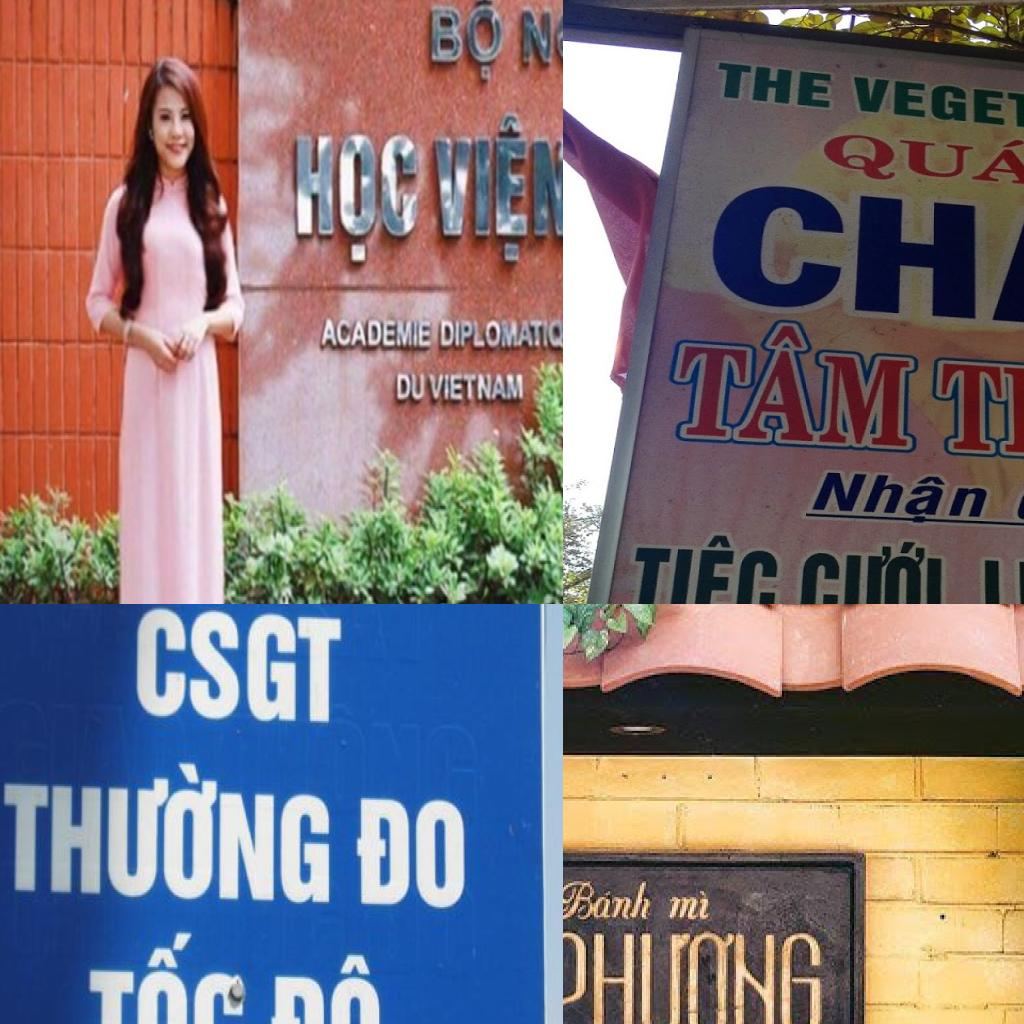text: (699, 177, 1024, 342), (0, 755, 335, 907), (657, 308, 922, 452), (132, 604, 346, 727), (563, 929, 826, 1024), (426, 109, 563, 267), (292, 126, 422, 272), (86, 925, 250, 1024), (819, 123, 1024, 197), (937, 325, 1024, 494), (792, 464, 998, 534), (618, 521, 786, 604), (354, 793, 468, 914), (850, 70, 1024, 149), (792, 535, 967, 604), (702, 56, 844, 116), (424, 0, 505, 85), (436, 316, 563, 354), (318, 314, 432, 354), (516, 0, 563, 90), (563, 879, 658, 923), (971, 539, 1024, 604), (664, 889, 712, 923), (392, 370, 428, 405)
